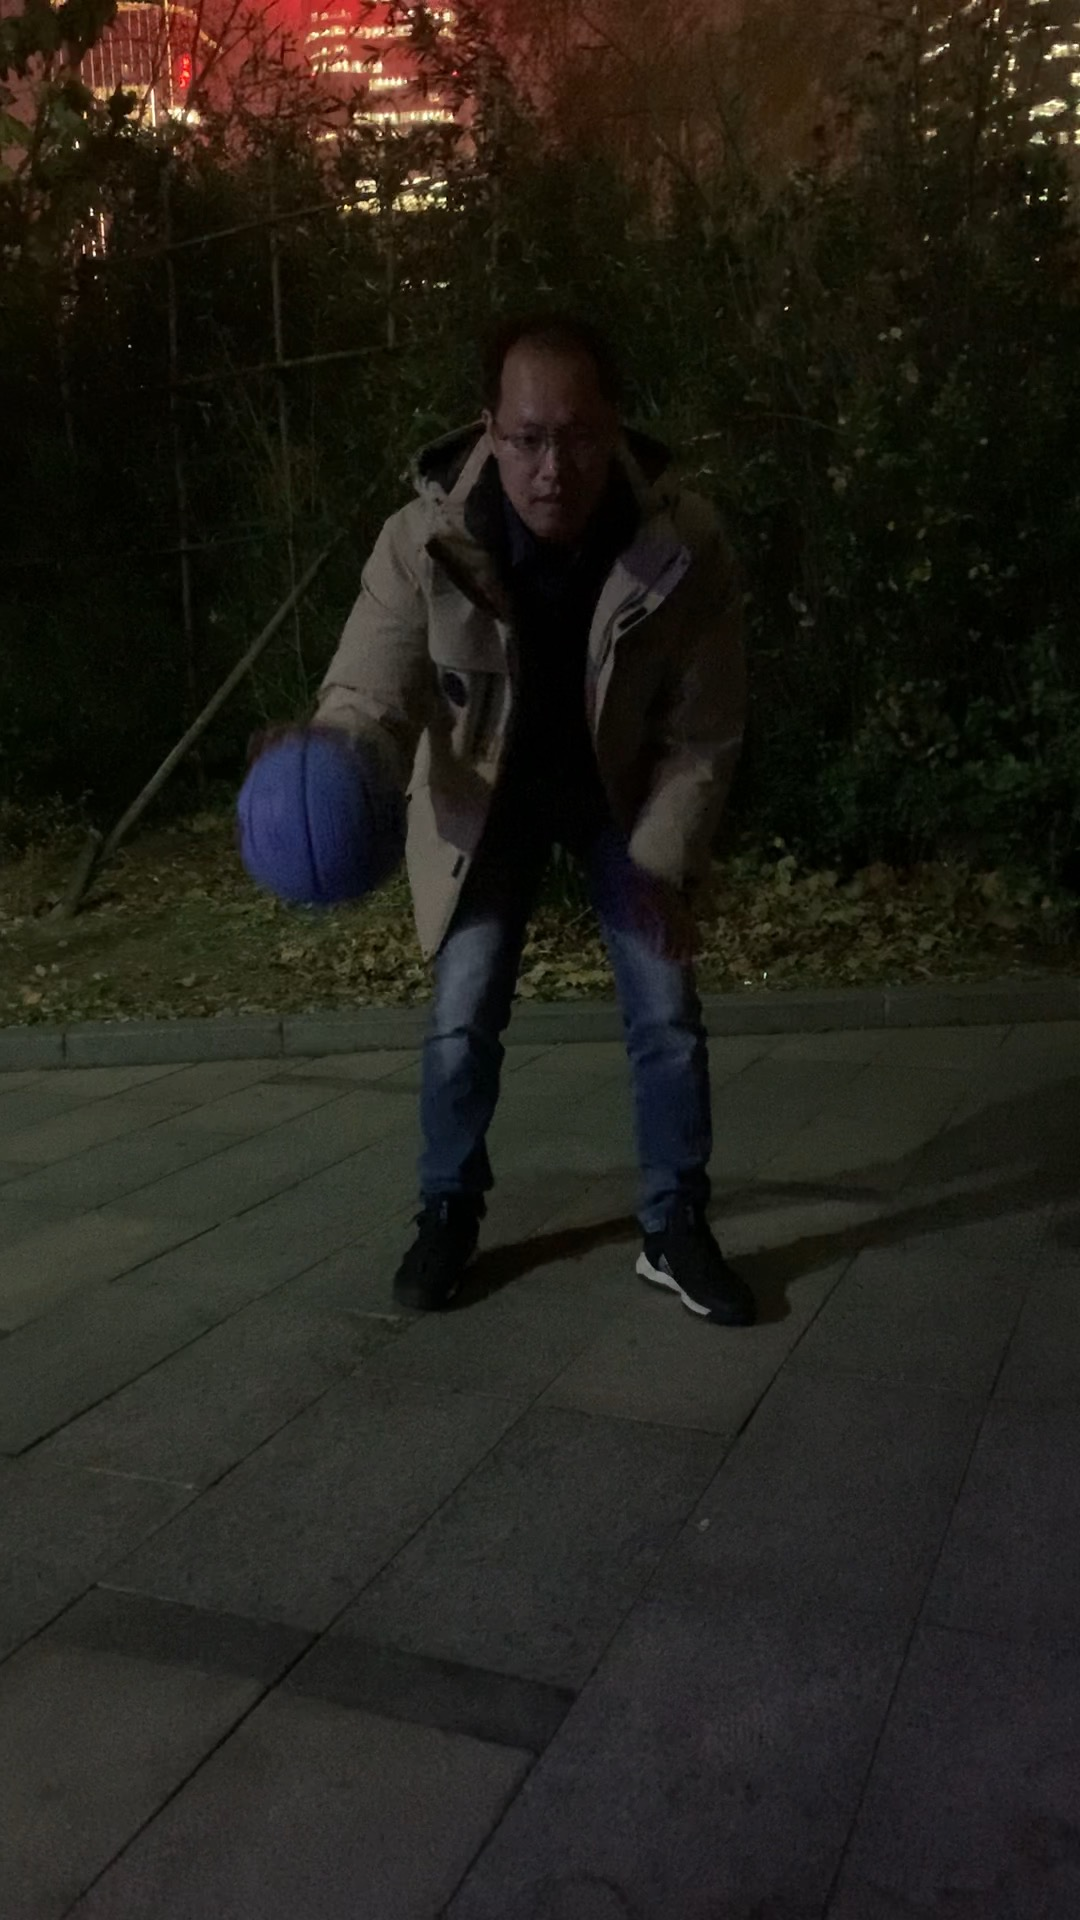ball: (237, 731, 409, 909)
